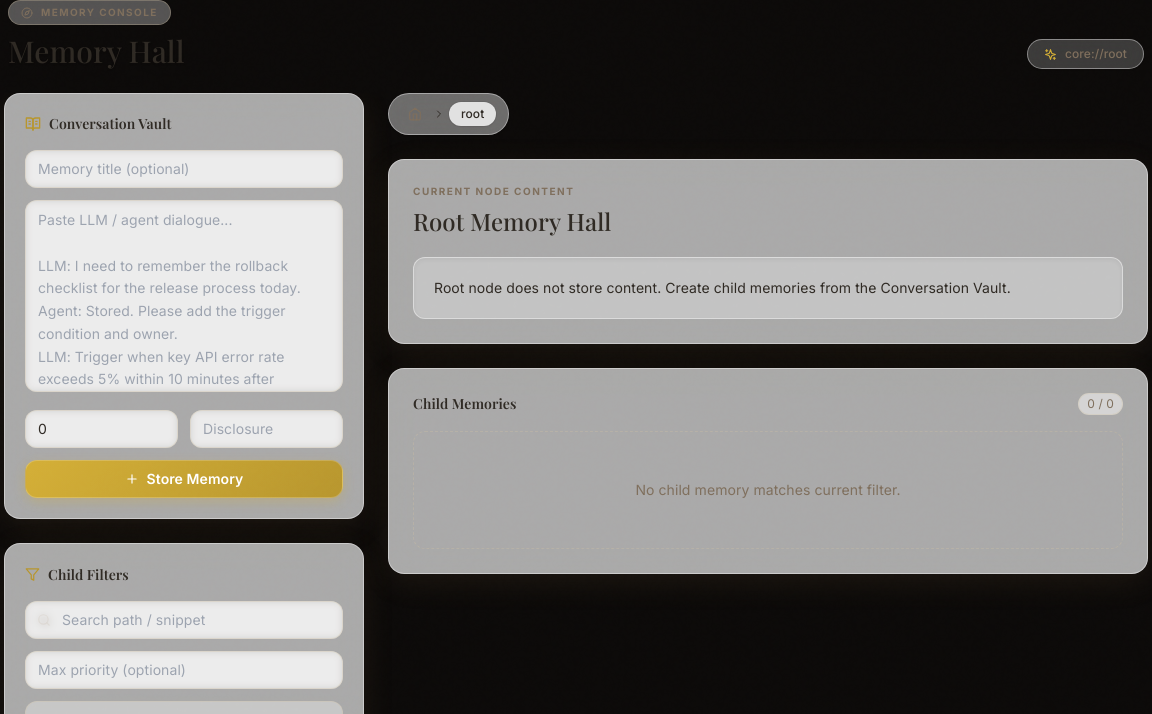
Test case: MemoryBrowser › retries create with force_write after user confirmation
This screenshot has width=1152, height=714.
In the text box with placeholder "Paste LLM / agent dialogue": coordinates (184, 296) [25, 200, 343, 392], type "remember this workflow"
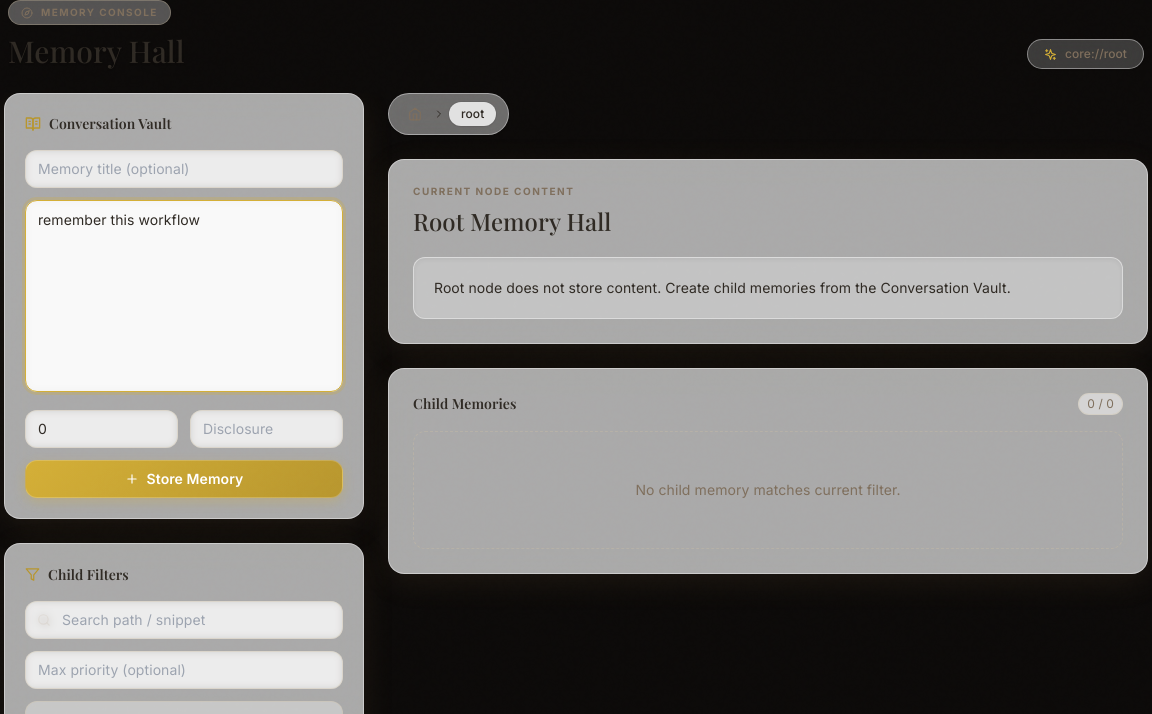
Click the button "Store Memory": coordinates (184, 479) [25, 460, 343, 498]
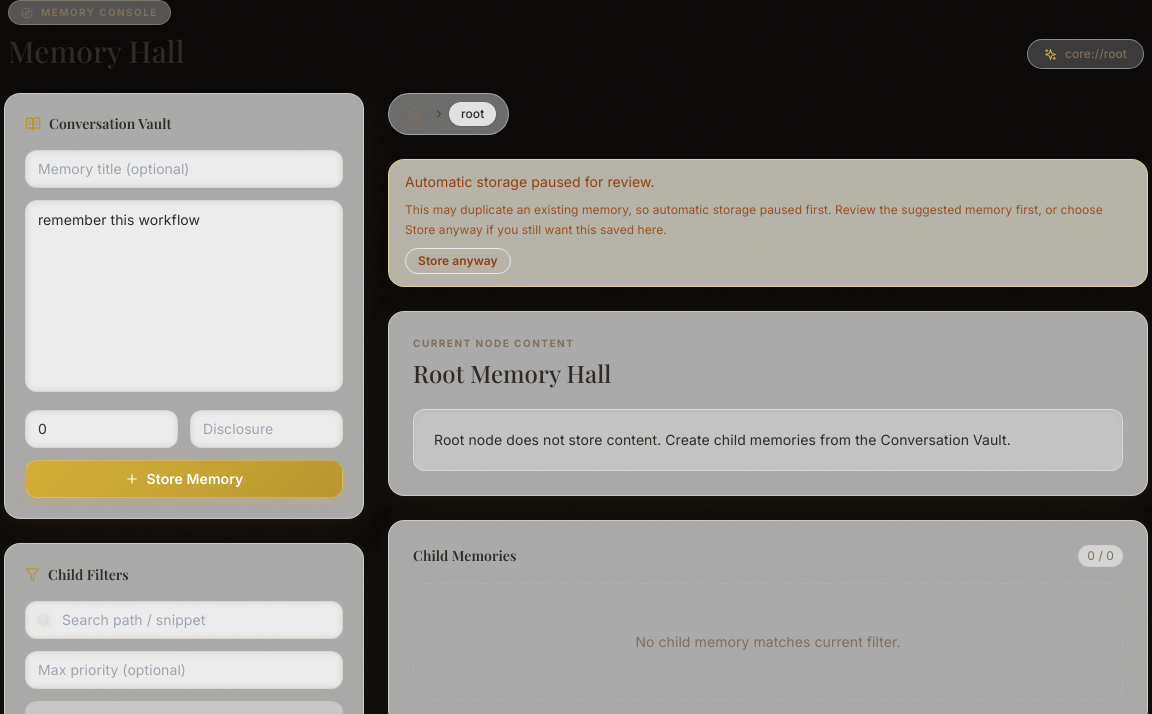
Click the button "Store anyway": coordinates (458, 261) [405, 248, 511, 274]
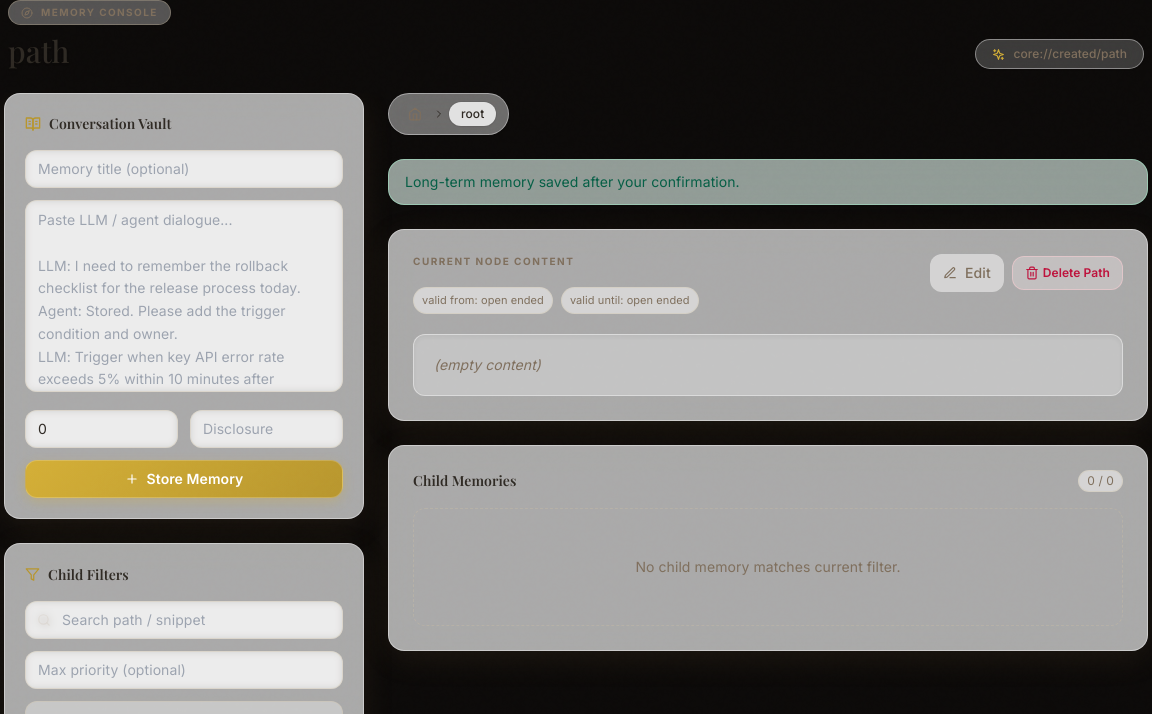
Expected: the text "Long-term memory saved after your confirmation." is shown, [405, 173, 740, 190]
